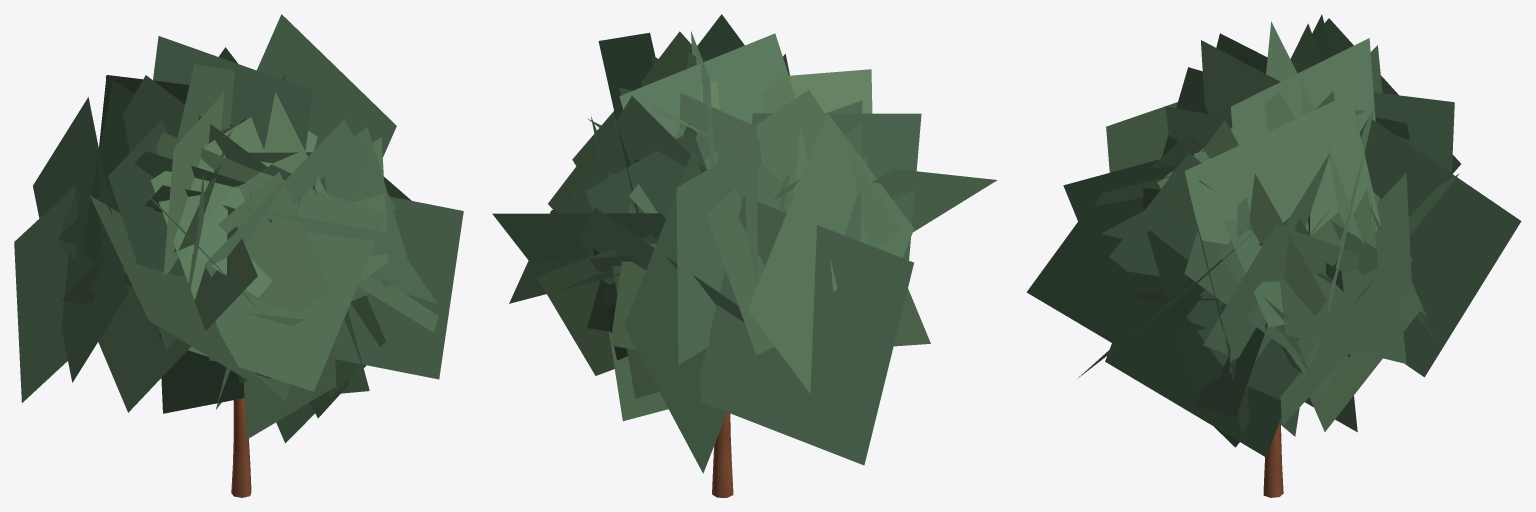
Rendered from pine_lod1.glb.
3 renders of one model, left to right at view 1: azimuth 30°, elevation 25°; view 2: azimuth 150°, elevation 25°; view 3: azimuth 270°, elevation 25°, orthographic. The views are drawn at different scales.
Visible parts, largest first — view 1: pine_lod1; view 2: pine_lod1; view 3: pine_lod1.
Part boxes in pixels (x1,y1,x2,y2): pine_lod1: [14, 14, 463, 497]; pine_lod1: [492, 14, 997, 497]; pine_lod1: [1026, 14, 1521, 497].
Bounding box in the file's own units: 0.8954 × 1 × 1.
